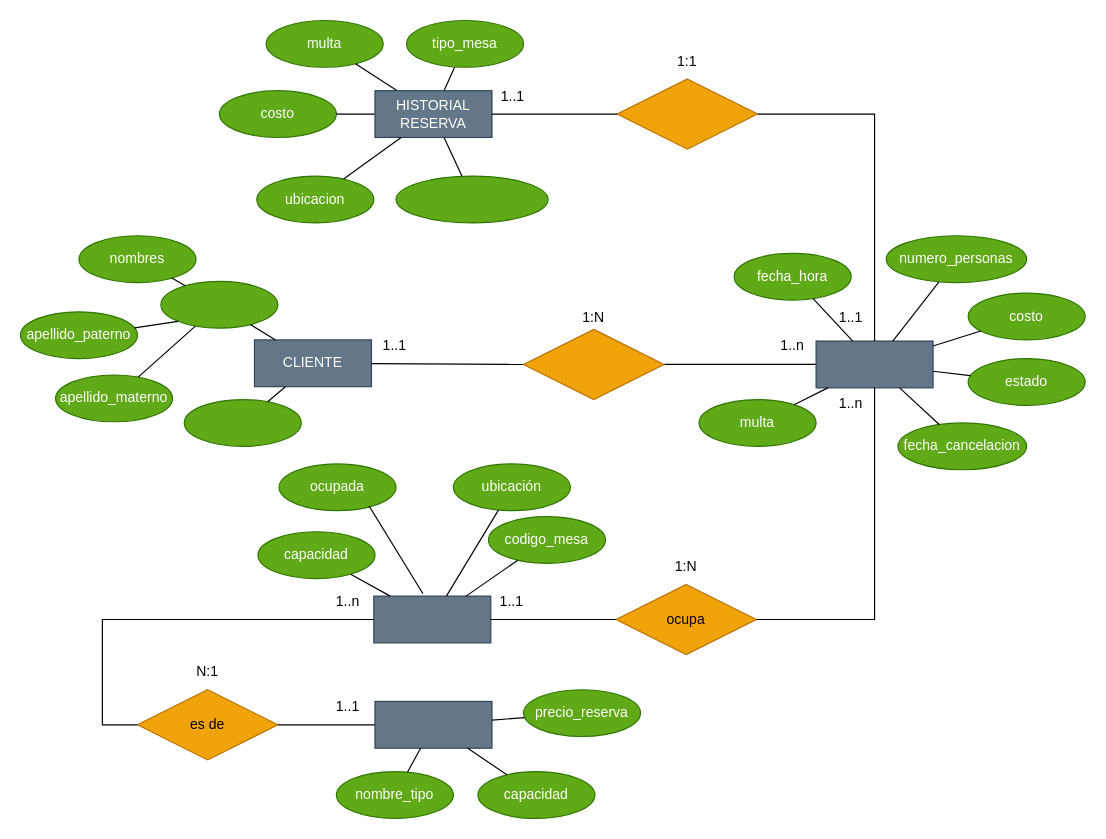
The diagram is 1106 pixels wide and 839 high, and some of its shapes have lost their labels. The centre of each missing label's shape, as x and y in pixels:
"fecha_hora_reserva" belongs at pixel 471 199.
"MESA" belongs at pixel 432 619.
"nombre" belongs at pixel 219 304.
"realiza" belongs at pixel 593 364.
"registra" belongs at pixel 687 113.
"RESERVA" belongs at pixel 874 364.
"telefono" belongs at pixel 242 422.
"TIPO MESA" belongs at pixel 433 724.
